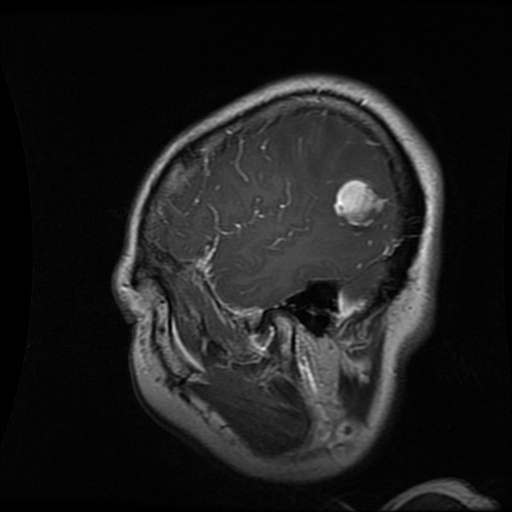glioma: (334, 178, 386, 227)
